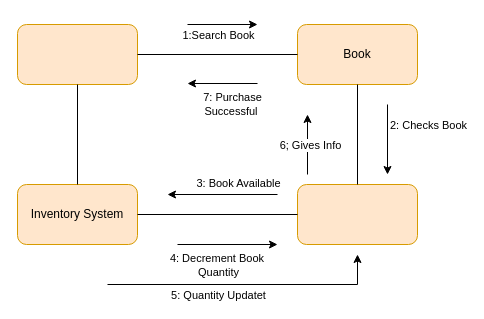
This 484x319 diagram has some shape labels left out. Here are the shapes that lost their labels. From the top down, the centre of each, then its label:
point (77, 54): Customer
point (357, 214): Inventory
